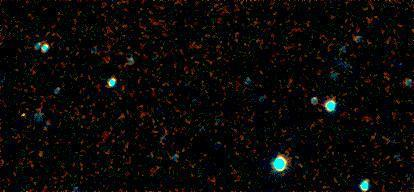star: (9, 98, 39, 128)
